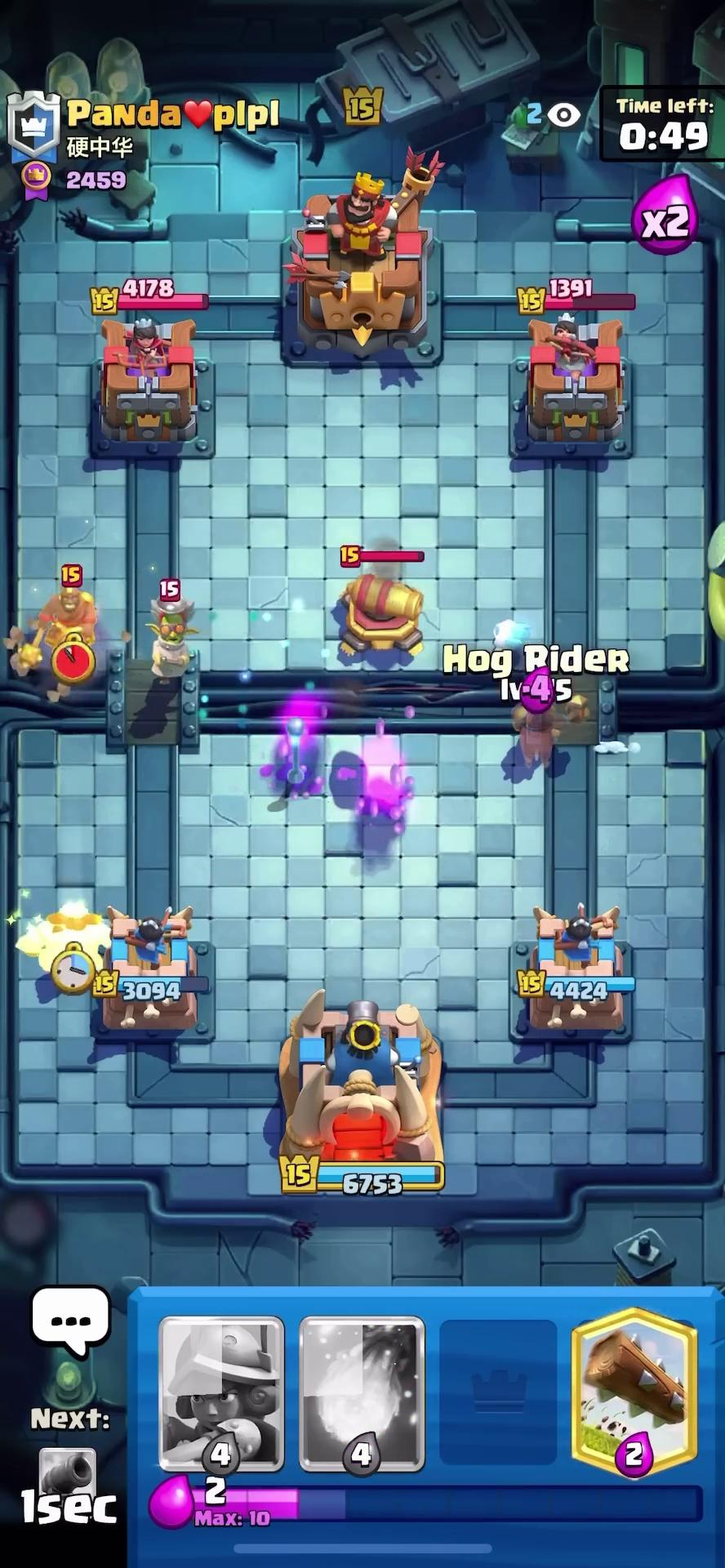ice_golem: (27, 884, 118, 976)
